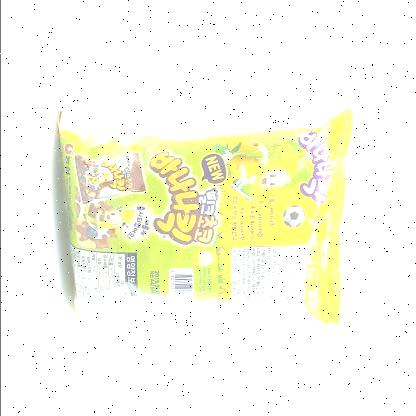Others: (51, 102, 362, 336)
